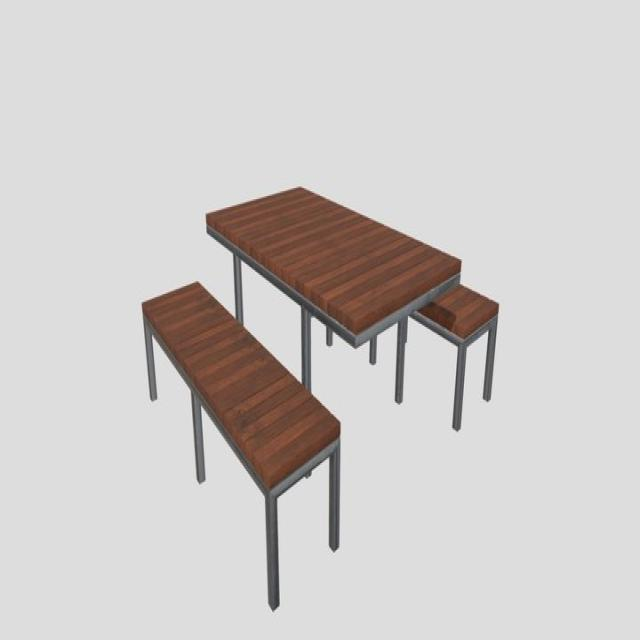chair: (142, 279, 344, 612), (273, 200, 507, 427)
table: (206, 180, 464, 404)
